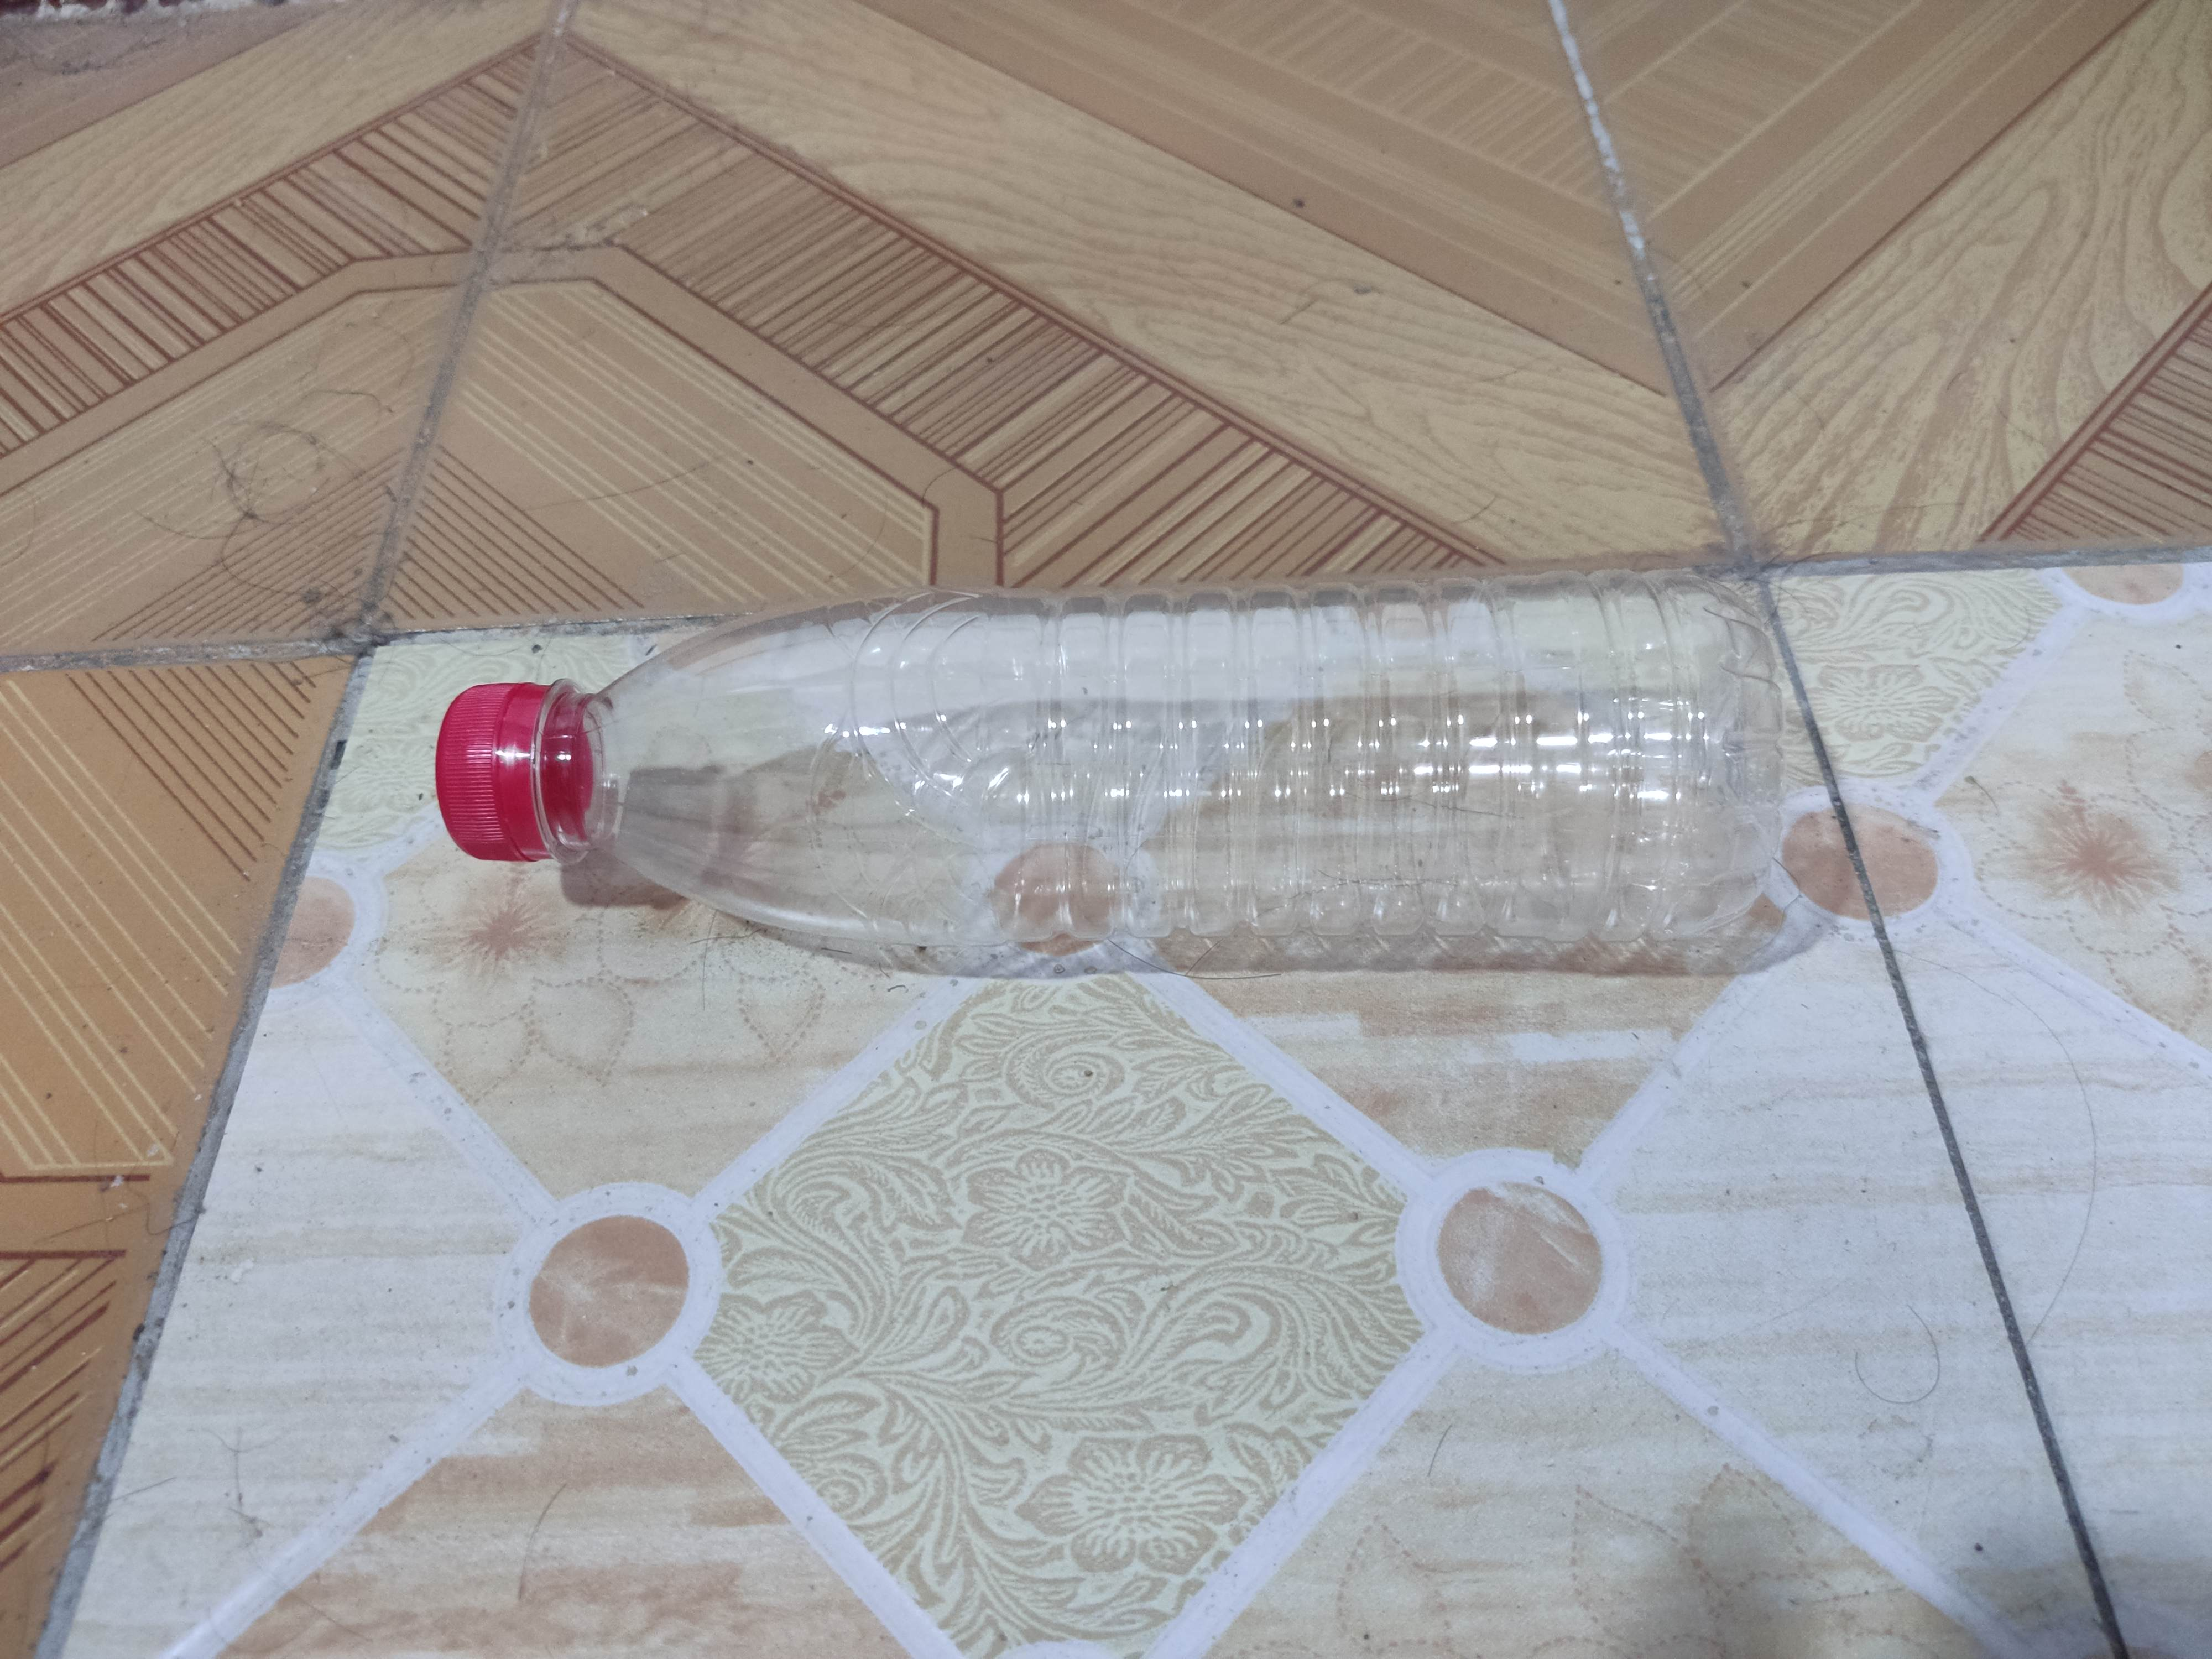Plastic Bottle: (432, 563, 1787, 957)
